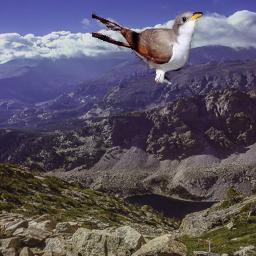Cuckoo: (92, 11, 203, 84)
